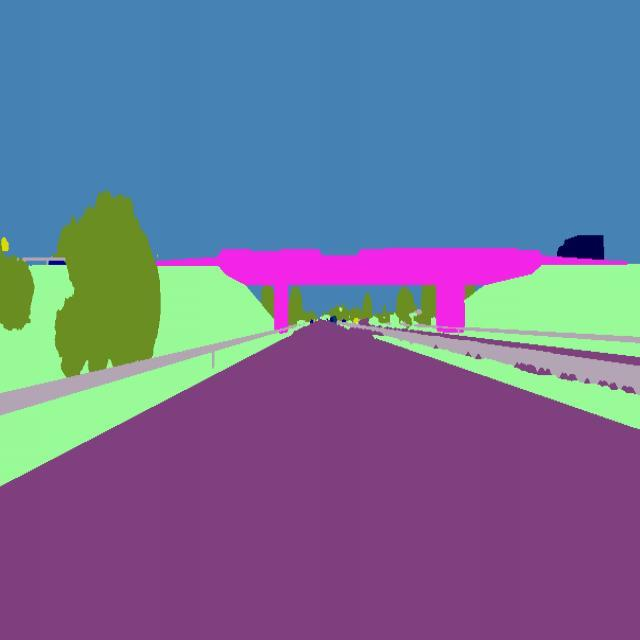safe: (554, 227, 612, 271)
